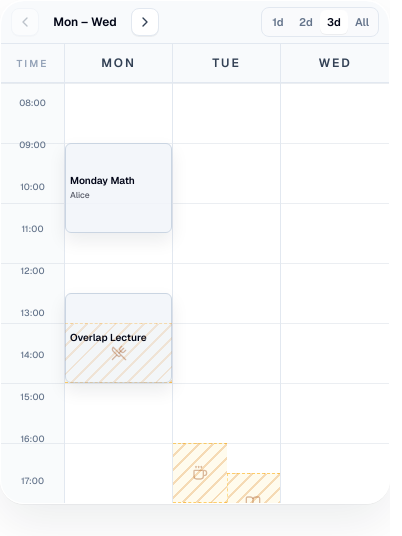
Test case: WeekView mobile day controls › defaults to 3-day view on mobile and moves exactly 1 day per step for all combinations
Expected: the text "Mon – Wed" is shown, [53,14,117,30]
Expected: the button named "Previous days" is disabled, [11,8,39,36]
What coordinates should you click on to do the following:
click the button named "Next days"
I would click on:
 (145, 22)
Its box is [131,8,159,36].
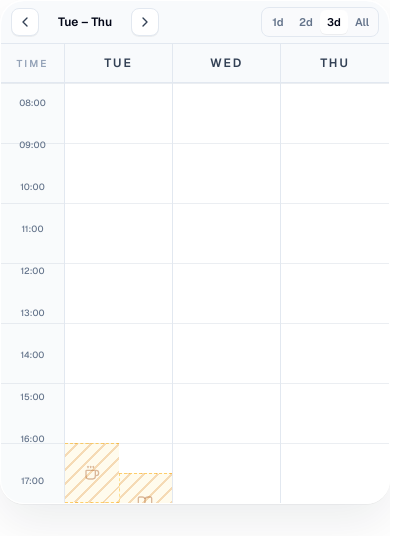
Expected: the button named "Previous days" is enabled, [11,8,39,36]
Expected: the text "Tue – Thu" is shown, [58,14,112,30]
What coordinates should you click on to do the following:
click the button named "Next days"
I would click on:
 (145, 22)
Its box is [131,8,159,36].
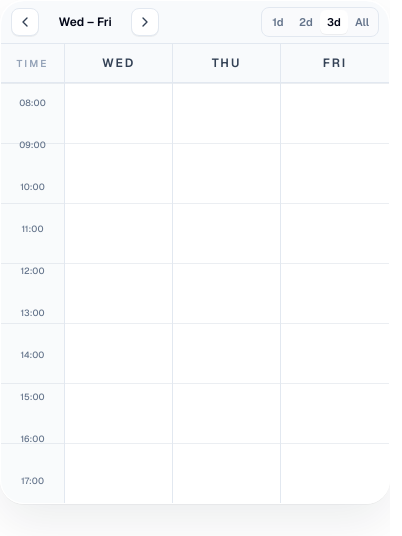
Expected: the text "Wed – Fri" is shown, [58,14,112,30]
What coordinates should you click on to do the following:
click the button named "Next days"
I would click on:
 (145, 22)
Its box is [131,8,159,36].
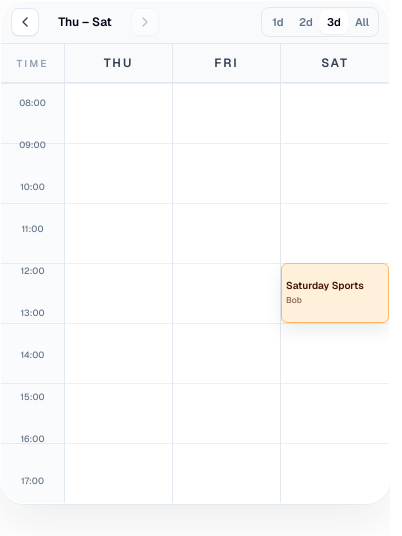
Expected: the text "Thu – Sat" is shown, [58,14,112,30]
What coordinates should you click on to do the following:
click the button named "Previous days"
I would click on:
 (25, 22)
Its box is [11,8,39,36].
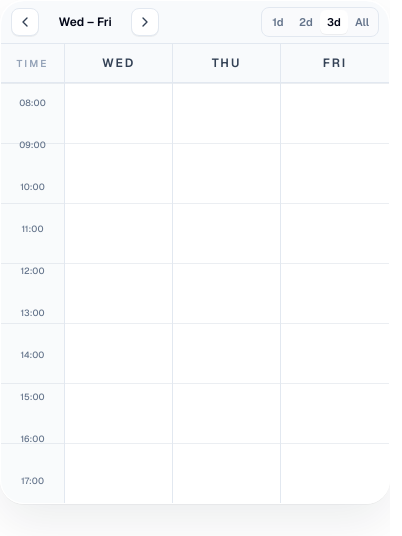
Expected: the text "Wed – Fri" is shown, [58,14,112,30]
